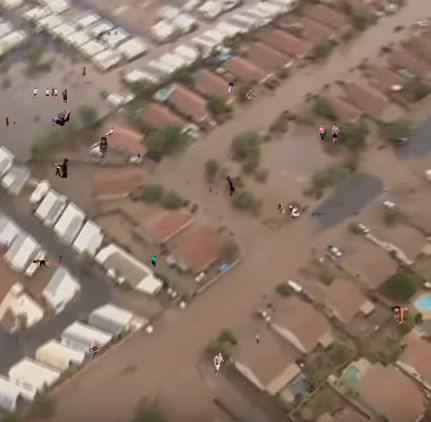Human: (33, 87, 67, 103), (54, 158, 81, 178), (228, 80, 256, 99), (87, 137, 110, 160), (209, 176, 235, 196), (311, 204, 344, 219), (32, 255, 63, 270), (276, 203, 302, 220), (319, 123, 339, 145), (391, 305, 409, 324), (77, 343, 98, 359), (52, 110, 71, 126), (213, 353, 225, 375), (5, 116, 16, 127), (105, 127, 115, 136), (254, 335, 262, 344), (103, 31, 119, 35), (151, 256, 156, 267), (81, 67, 86, 76), (138, 151, 140, 158), (7, 83, 9, 88), (228, 155, 231, 158), (170, 4, 173, 7)
